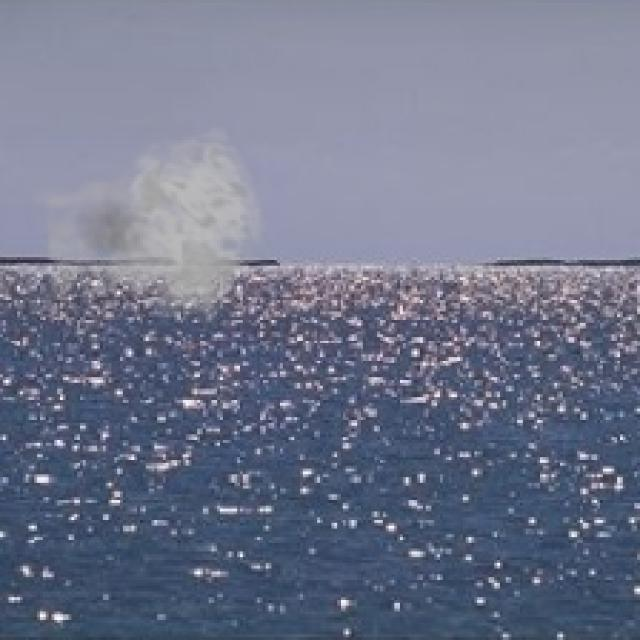Smoke: (25, 126, 268, 332)
